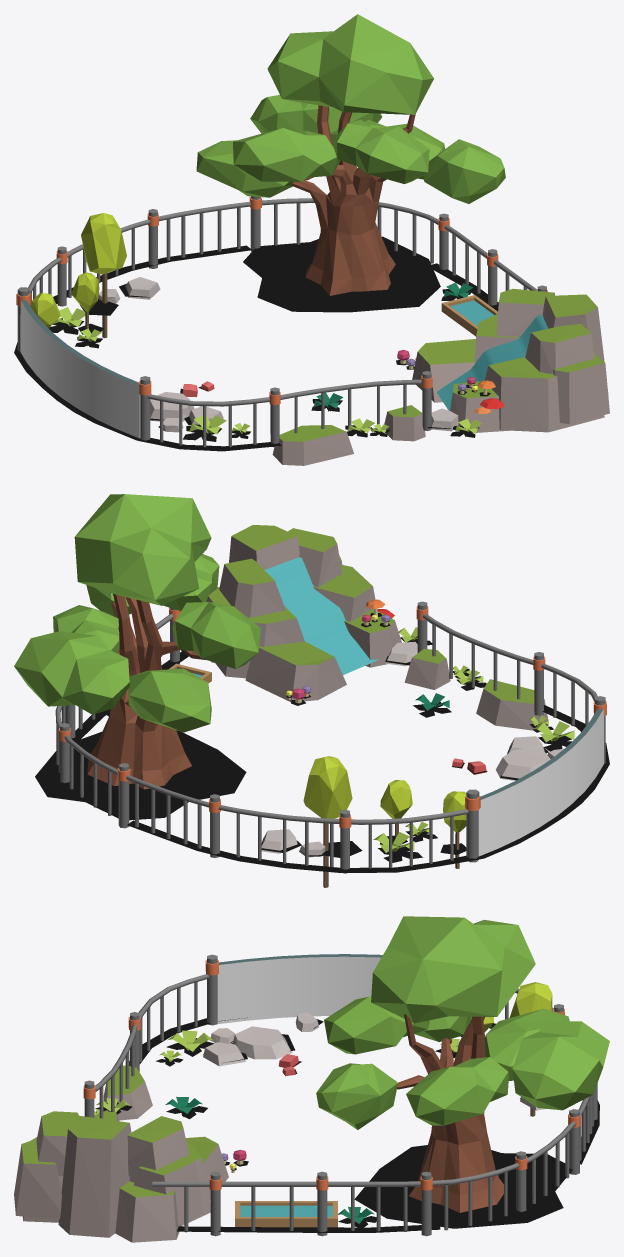
Rendered from xweilan_1006_3.FBX.
3 renders of one model, top to bottom at view 1: azimuth 30°, elevation 25°; view 2: azimuth 150°, elevation 25°; view 3: azimuth 270°, elevation 25°, orthographic. The views are drawn at different scales.
Visible parts, largest first — view 1: xweilan_1006_3; view 2: xweilan_1006_3; view 3: xweilan_1006_3.
Boxes of the visible parts, bbox=[...] form: xweilan_1006_3: bbox=[14, 14, 609, 465]; xweilan_1006_3: bbox=[14, 494, 609, 887]; xweilan_1006_3: bbox=[14, 916, 609, 1242].
Size of the model in its own units: 4789 by 3012 by 5188.
